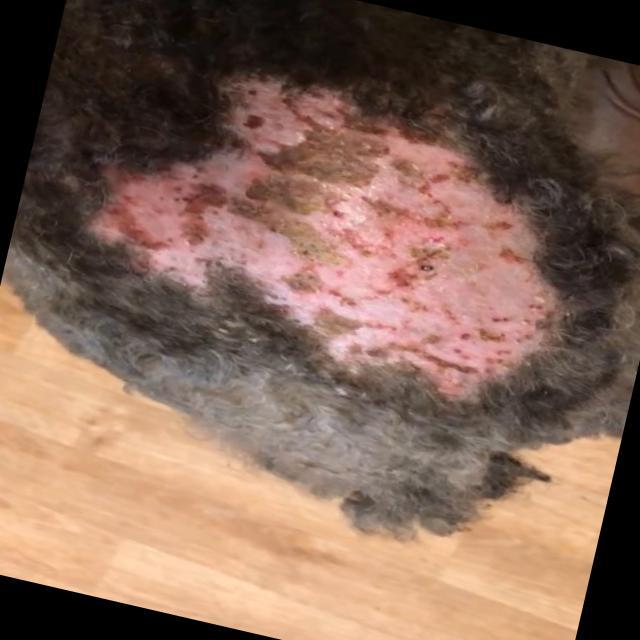allergic dermatitis: (100, 70, 552, 401)
